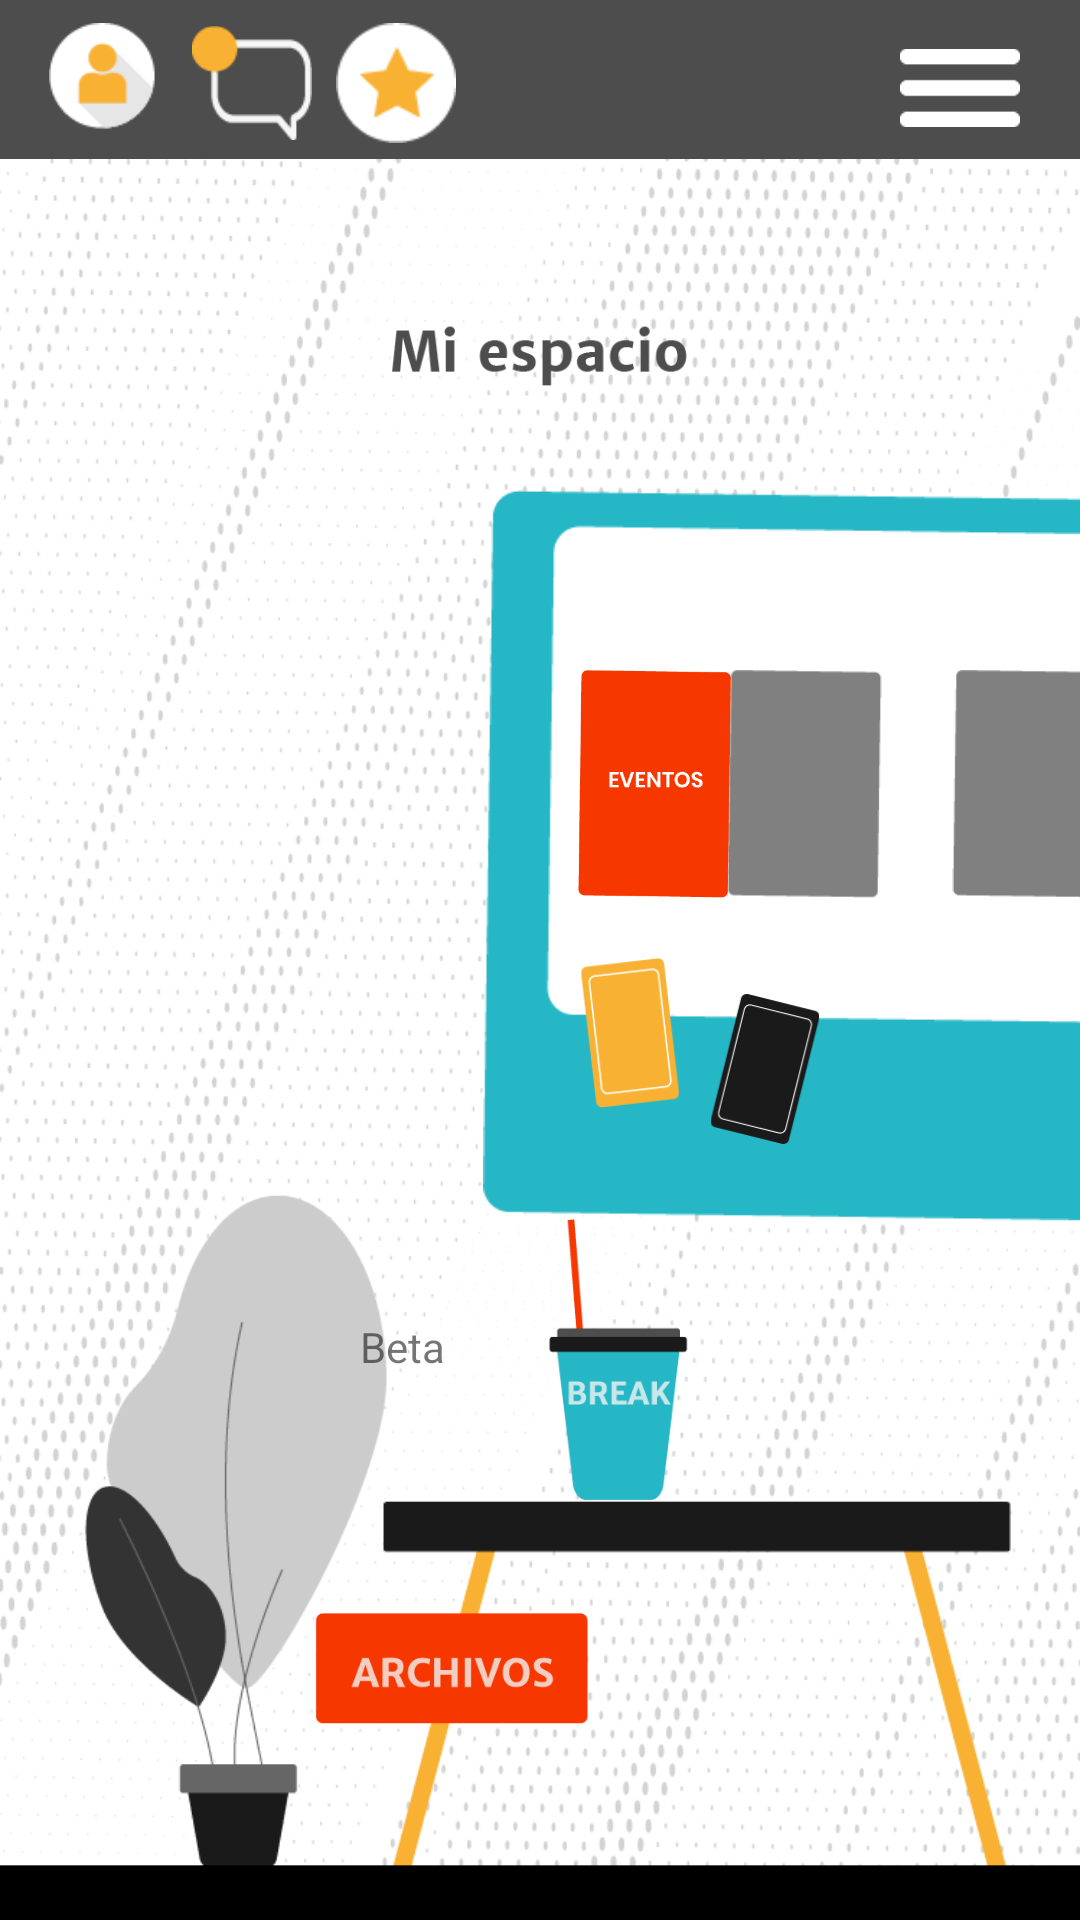

Icons on this 1080x1920 Android screen, each with the point to tap as (x,y):
estrella: (396,83)
login: (102,76)
mensaje: (252,83)
tres lineas: (960,88)
vasito: (627,1353)
